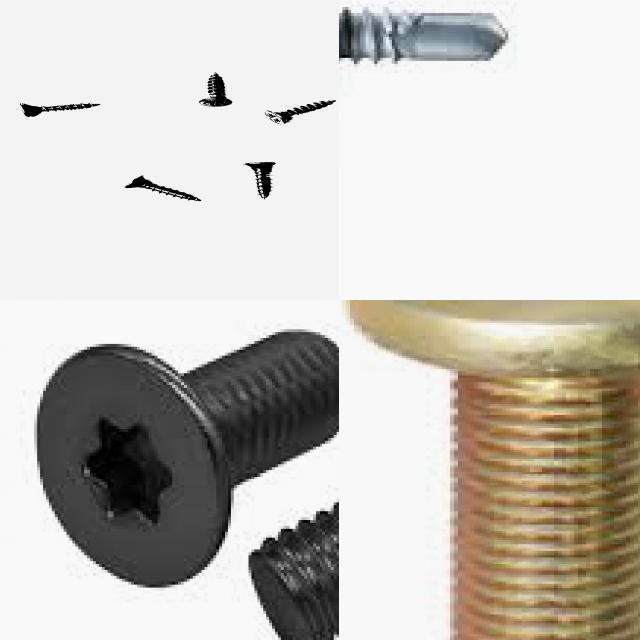Screw: (350, 300, 640, 640), (34, 329, 339, 590), (339, 10, 508, 64), (123, 176, 200, 201), (263, 100, 334, 124), (197, 72, 231, 106), (244, 162, 275, 199), (18, 103, 99, 116)
